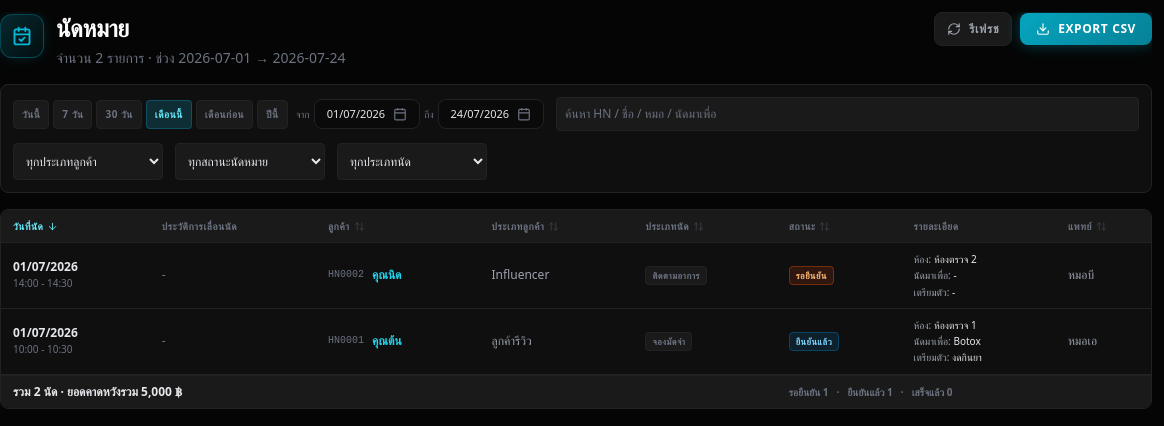
Test: AppointmentReportTab — render + interactions › customer-type filter narrows to "ลูกค้ารีวิว"
Expected: the row with test id "appt-row-A1" is shown, [1,308,1152,375]
Select "ลูกค้ารีวิว" in the dropdown with test id "appt-filter-customer-type" at (88, 162), box [13,143,163,180]
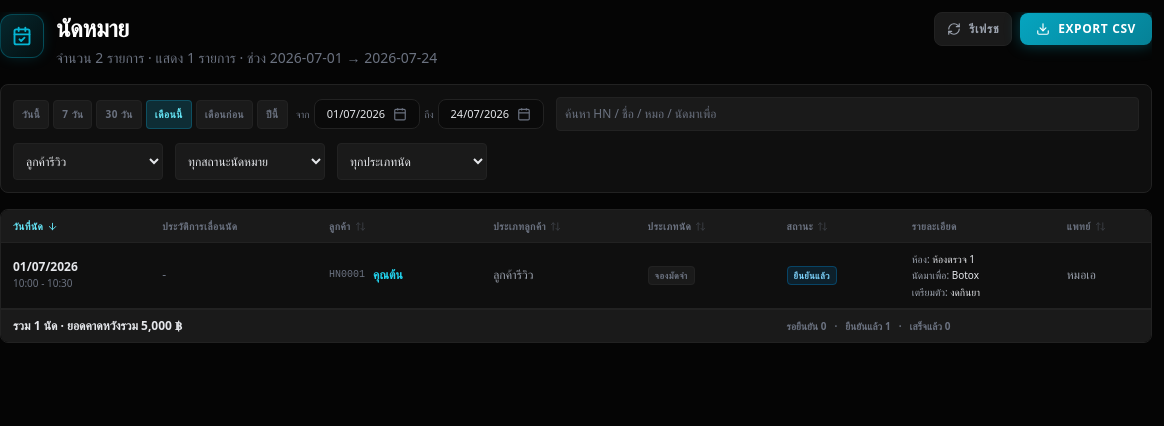
Expected: the row with test id "appt-row-A1" is shown, [1,242,1152,309]
Result: the row with test id "appt-row-A2" is gone
